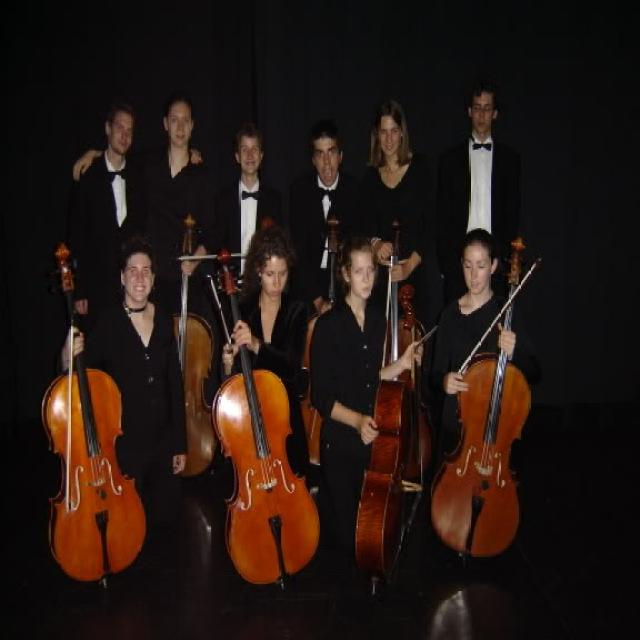cello: (211, 248, 324, 593), (48, 237, 150, 586), (430, 237, 535, 562), (350, 287, 431, 582), (161, 211, 219, 479)
